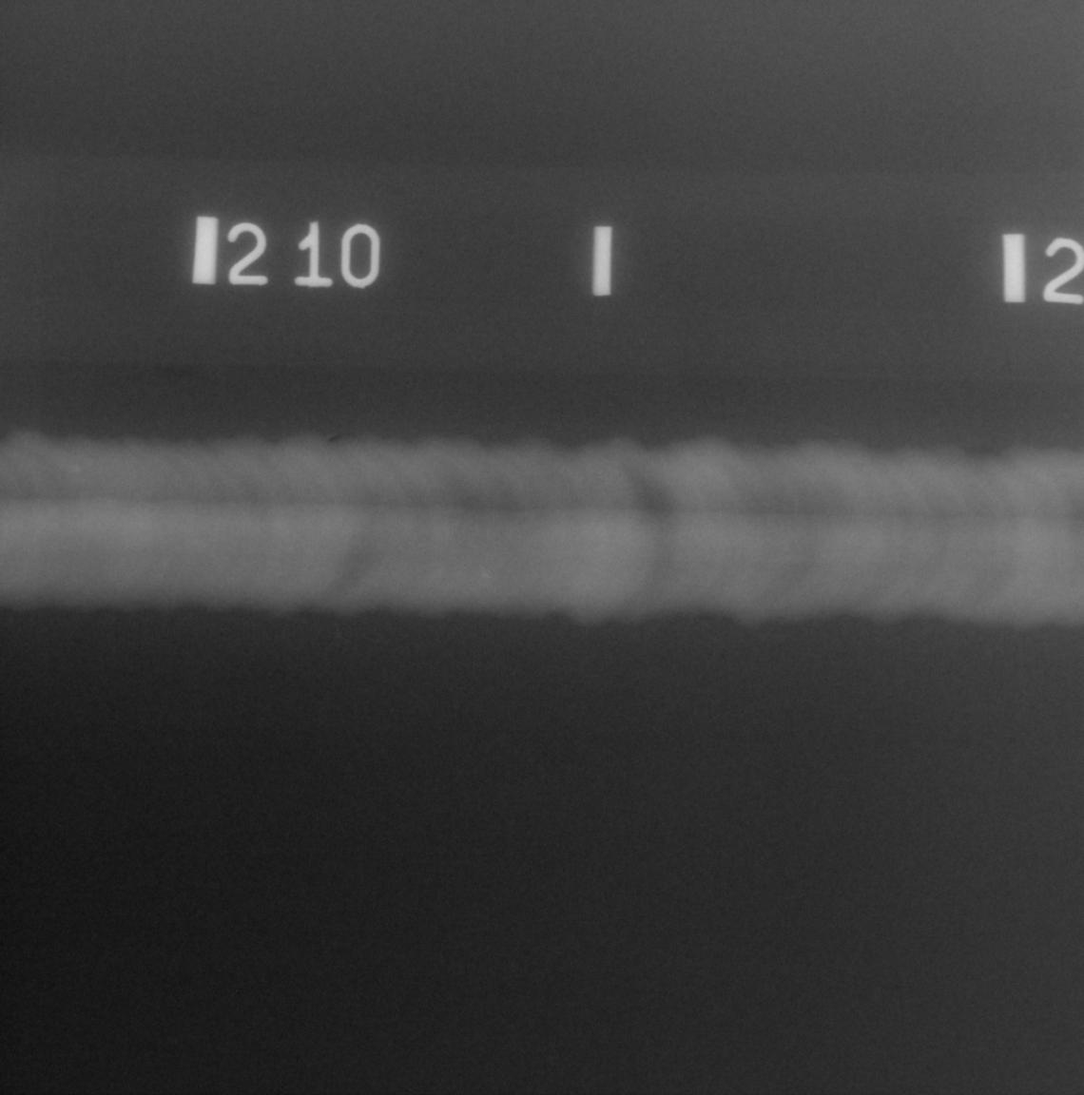Undercut: (329, 436, 339, 442)
